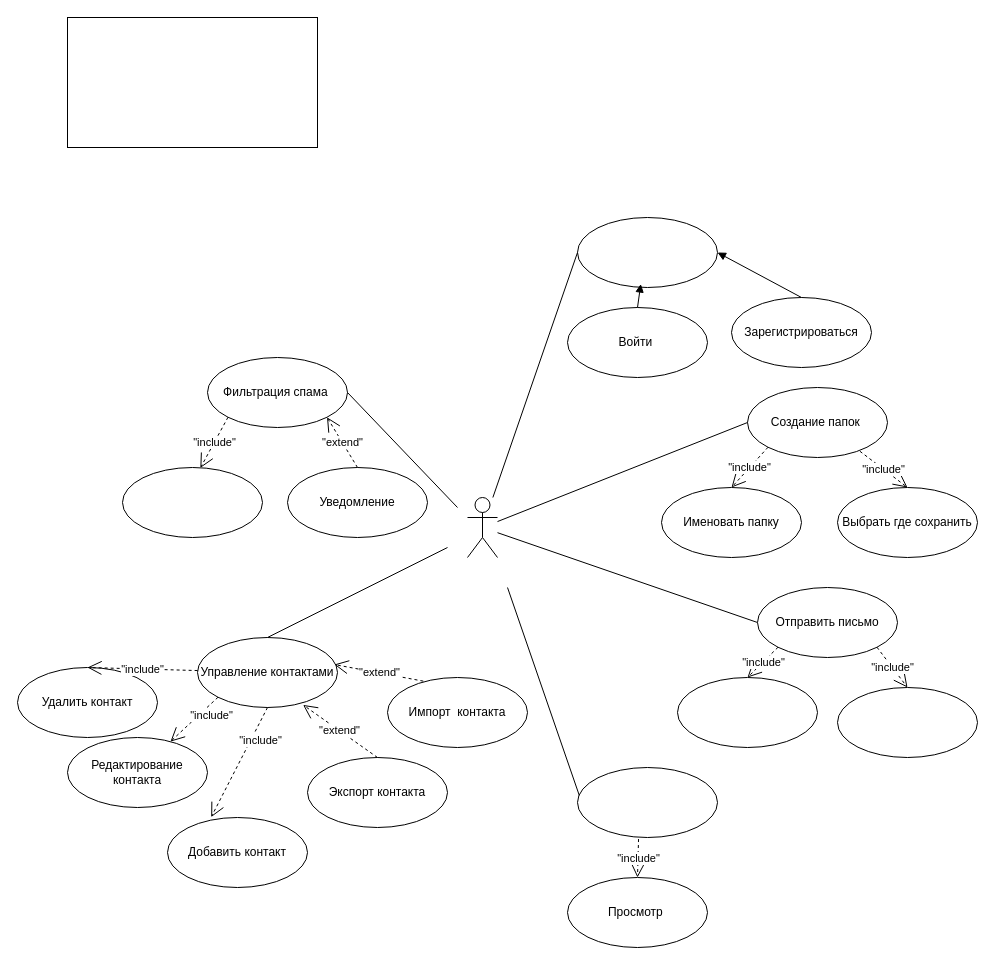
This 995x965 diagram has some shape labels left out. The shapes that lost their labels are listed below. From the top down, each one's centre as x and y in pixels, then its label:
At [192,82]: "19. Система электронной почты".
At [647,252]: "Вход в почту".
At [192,502]: "Проверка и анализ спама".
At [482,527]: "Пользователь".
At [747,712]: "Отправить текст".
At [907,722]: "Отправить файл с документом".
At [647,802]: "Получить письмо".
